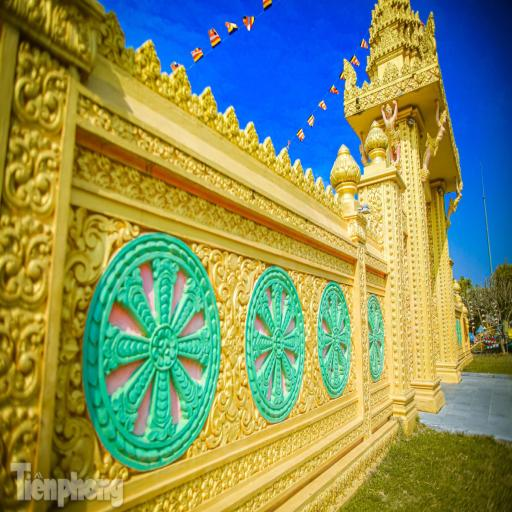hoa: (411, 75, 432, 86), (381, 88, 397, 99), (364, 95, 380, 105)
la: (18, 47, 62, 131), (382, 63, 399, 81), (372, 76, 382, 89), (400, 64, 411, 75), (413, 57, 422, 70), (351, 86, 360, 98), (362, 82, 370, 92), (0, 130, 4, 138)
lua: (383, 30, 394, 46), (382, 8, 392, 22), (411, 27, 418, 45), (418, 25, 423, 44), (405, 26, 410, 44), (406, 6, 411, 20), (400, 4, 405, 18), (374, 4, 380, 15), (370, 44, 374, 60), (366, 54, 370, 69), (400, 29, 404, 43), (415, 11, 420, 22), (371, 8, 376, 19), (370, 21, 376, 30), (374, 42, 377, 57), (394, 4, 398, 15), (376, 15, 380, 26), (394, 32, 398, 41), (368, 28, 372, 36), (378, 40, 381, 50), (380, 14, 383, 24), (412, 10, 414, 22)
ran: (422, 15, 436, 61), (342, 58, 357, 90)
than: (424, 107, 448, 170), (380, 100, 402, 167), (448, 180, 465, 217)
